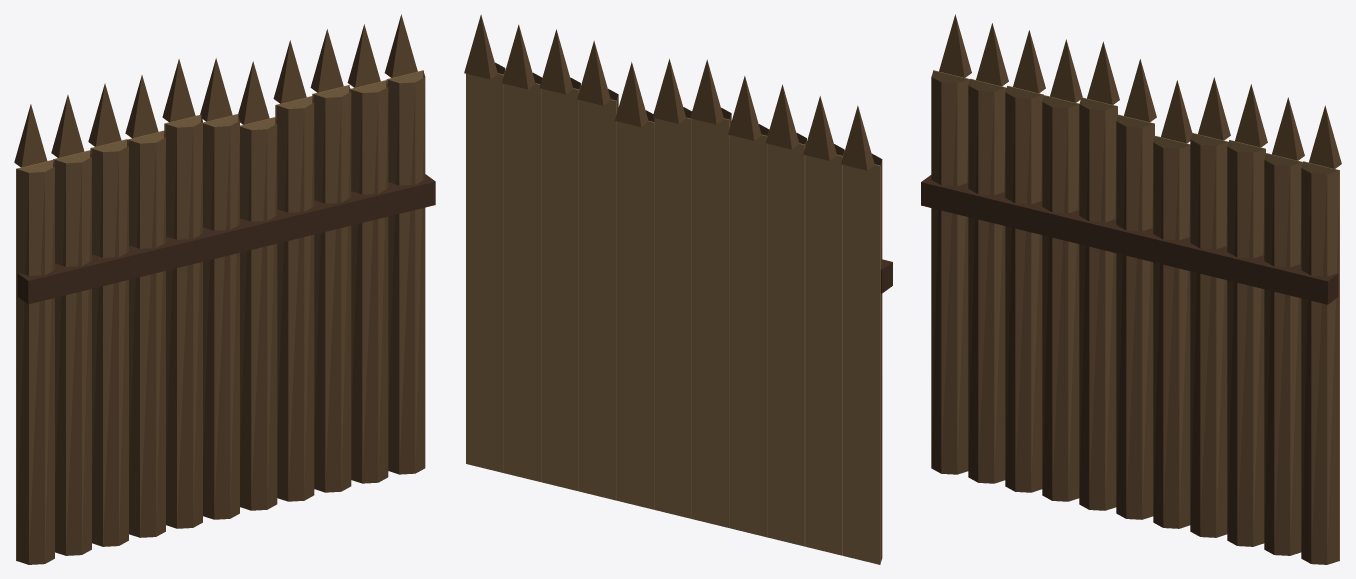
The model's file is c1_palisade.glb.
The picture shows the model from 3 angles, left to right: view 1: azimuth 30°, elevation 25°; view 2: azimuth 150°, elevation 25°; view 3: azimuth 330°, elevation 25°; orthographic projection.
Visible parts, largest first — view 1: C1_palisademodul; view 2: C1_palisademodul; view 3: C1_palisademodul.
Boxes of the visible parts, <box> form: C1_palisademodul: <box>14,14,435,564</box>; C1_palisademodul: <box>464,14,892,564</box>; C1_palisademodul: <box>921,14,1341,564</box>.
Bounding box in the file's own units: 4 × 4.31 × 0.3336.
